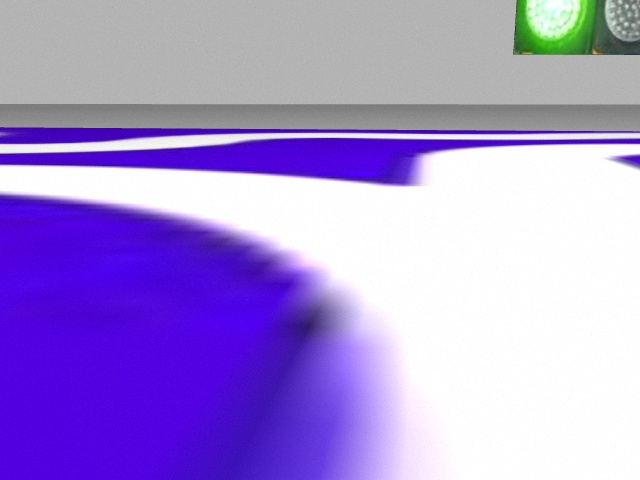green: (515, 2, 593, 57)
